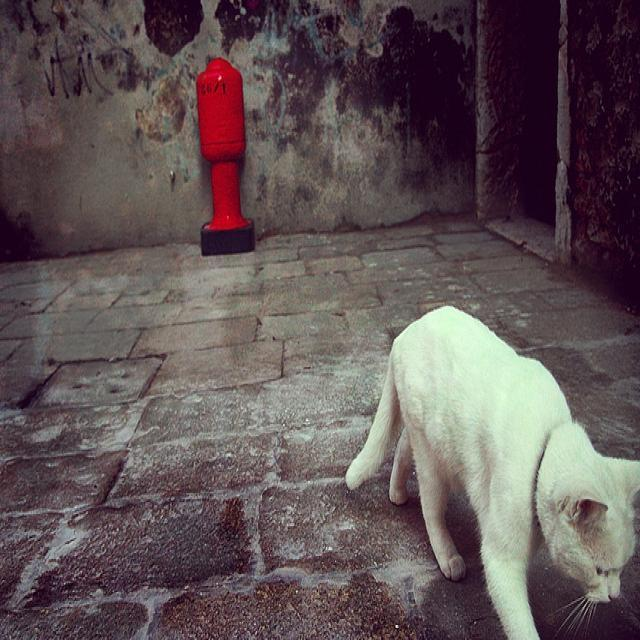fire_hydrant: (198, 54, 255, 258)
